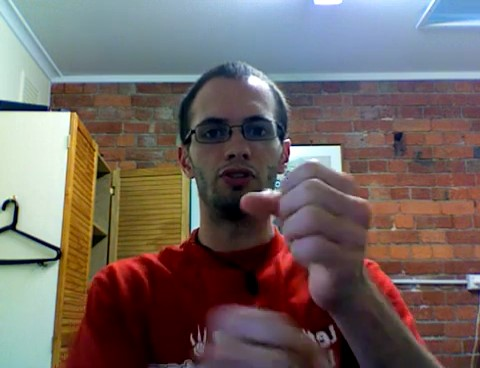G: (190, 154, 384, 368)
